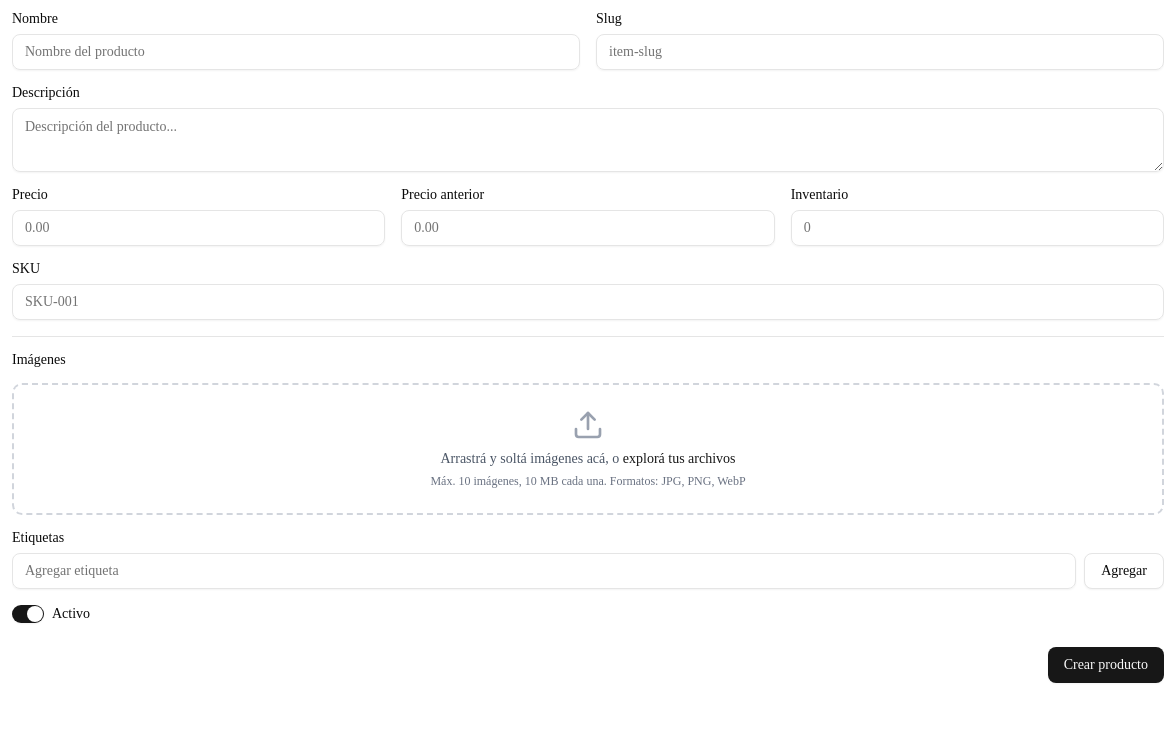
Test: ItemForm: fields › derives the slug from the name
This screenshot has width=1176, height=732.
Type "Cadena Milan 60" into the field labelled "Nombre" at (296, 52), box [12,34,580,70]
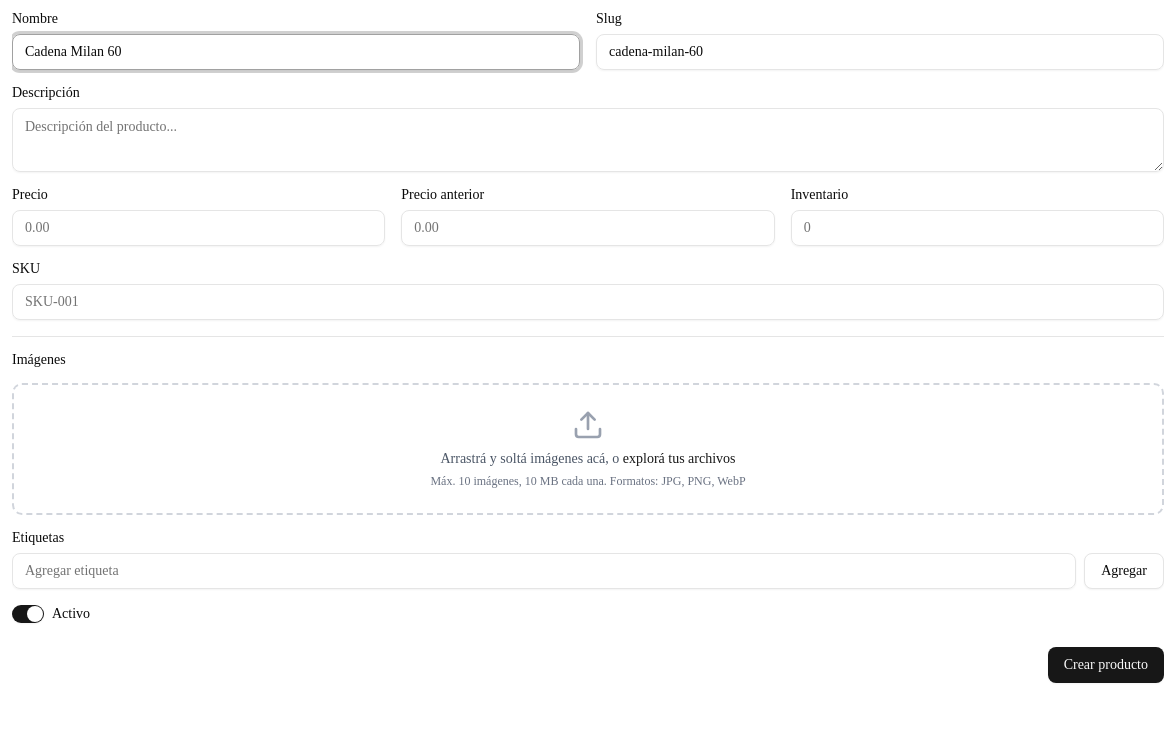
Expected: the field labelled "Slug" holds "cadena-milan-60", [596,34,1164,70]
